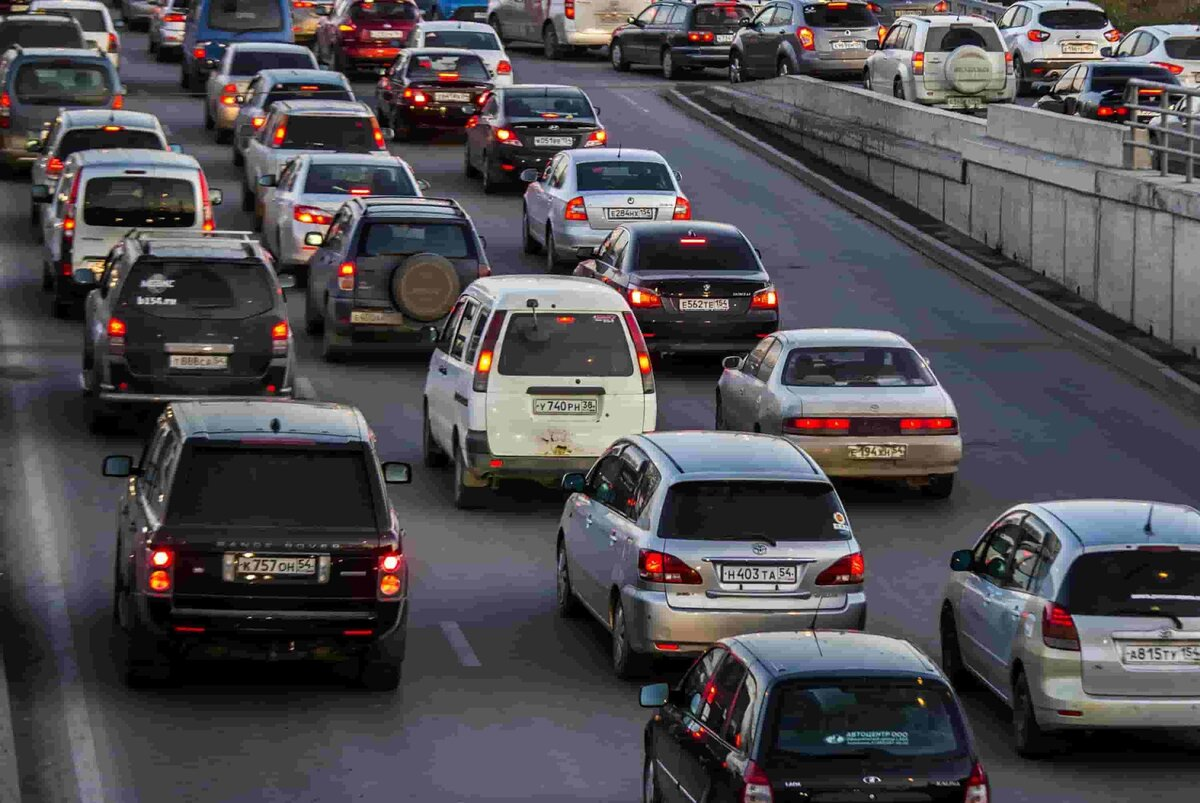Car: (102, 401, 412, 690), (554, 431, 868, 677), (938, 499, 1200, 756), (639, 631, 991, 803), (421, 274, 658, 508), (76, 231, 299, 429), (713, 328, 963, 499), (302, 197, 493, 360), (31, 149, 223, 310), (572, 220, 781, 358), (520, 147, 693, 272), (239, 99, 395, 230), (262, 153, 431, 270), (460, 83, 607, 192), (0, 48, 125, 169), (862, 11, 1016, 109), (31, 107, 171, 205), (203, 42, 330, 143), (729, 0, 885, 82), (232, 68, 356, 167), (995, 0, 1119, 96), (374, 48, 496, 141), (610, 1, 756, 78), (178, 0, 296, 90), (485, 0, 650, 59), (1029, 63, 1185, 124), (312, 0, 424, 72), (390, 21, 514, 86), (1099, 24, 1200, 87), (28, 0, 121, 68), (1146, 85, 1200, 170), (0, 13, 90, 61), (865, 0, 950, 36), (147, 0, 190, 63), (290, 0, 335, 41), (419, 0, 490, 22), (122, 0, 157, 29), (726, 0, 769, 14), (0, 0, 32, 17)
